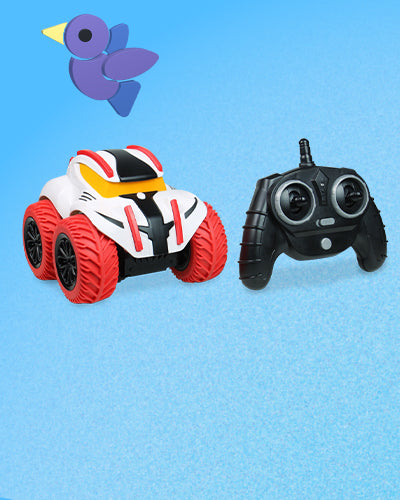toy: (23, 113, 389, 275)
